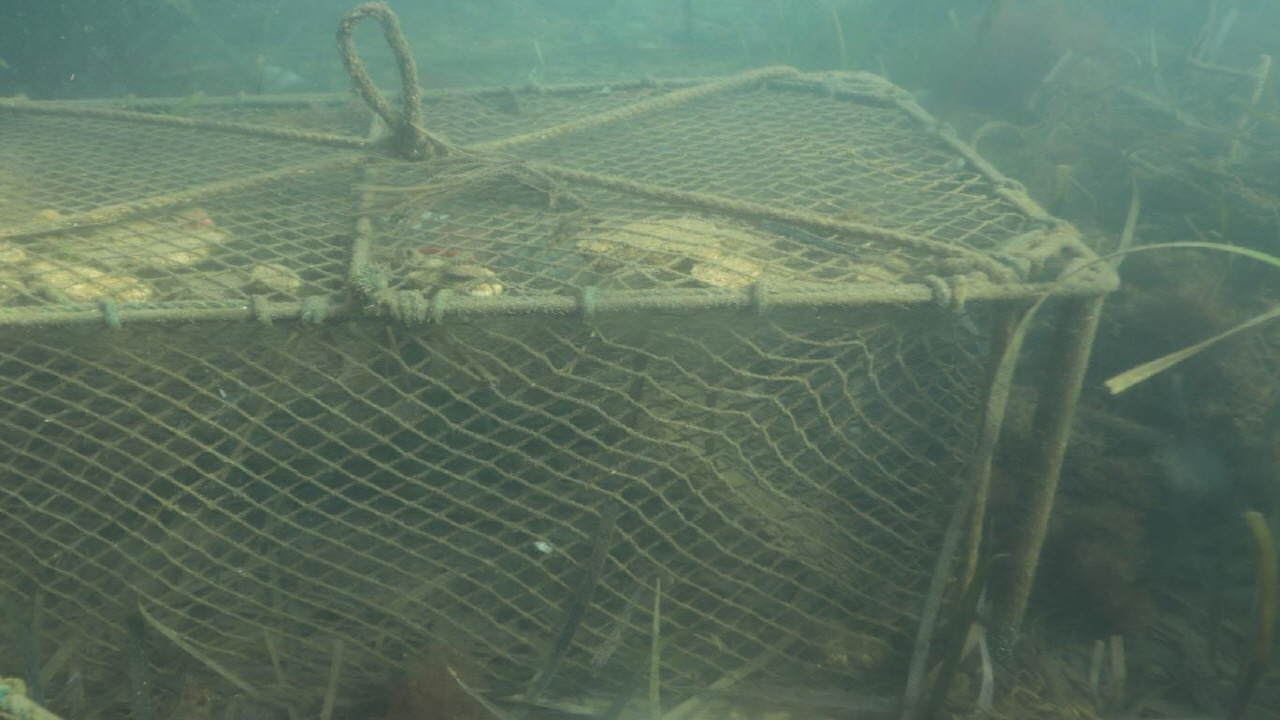bundle of ropes: (335, 0, 427, 160)
rectangular fish trap: (0, 62, 1117, 720)
